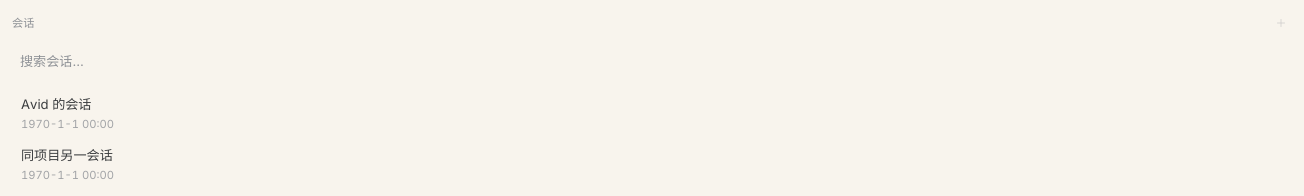
SessionNav（会话按项目管理） › 搜索在项目过滤结果内进行
Type "同项目" into the field with placeholder "搜索会话…" at (652, 61), box [12,46,1292,76]
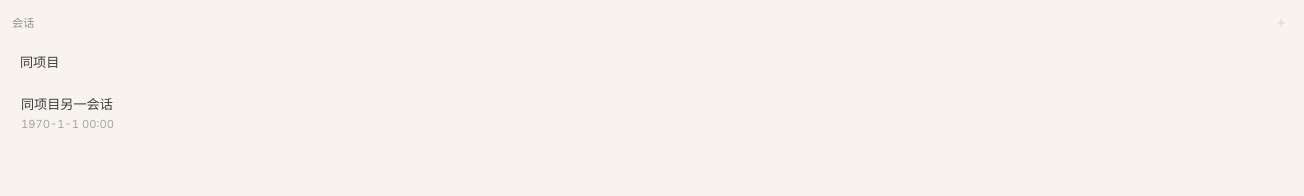
Check: the text "同项目另一会话" is shown, box [21,95,113,115]
Check: the button "Avid 的会话" is gone
